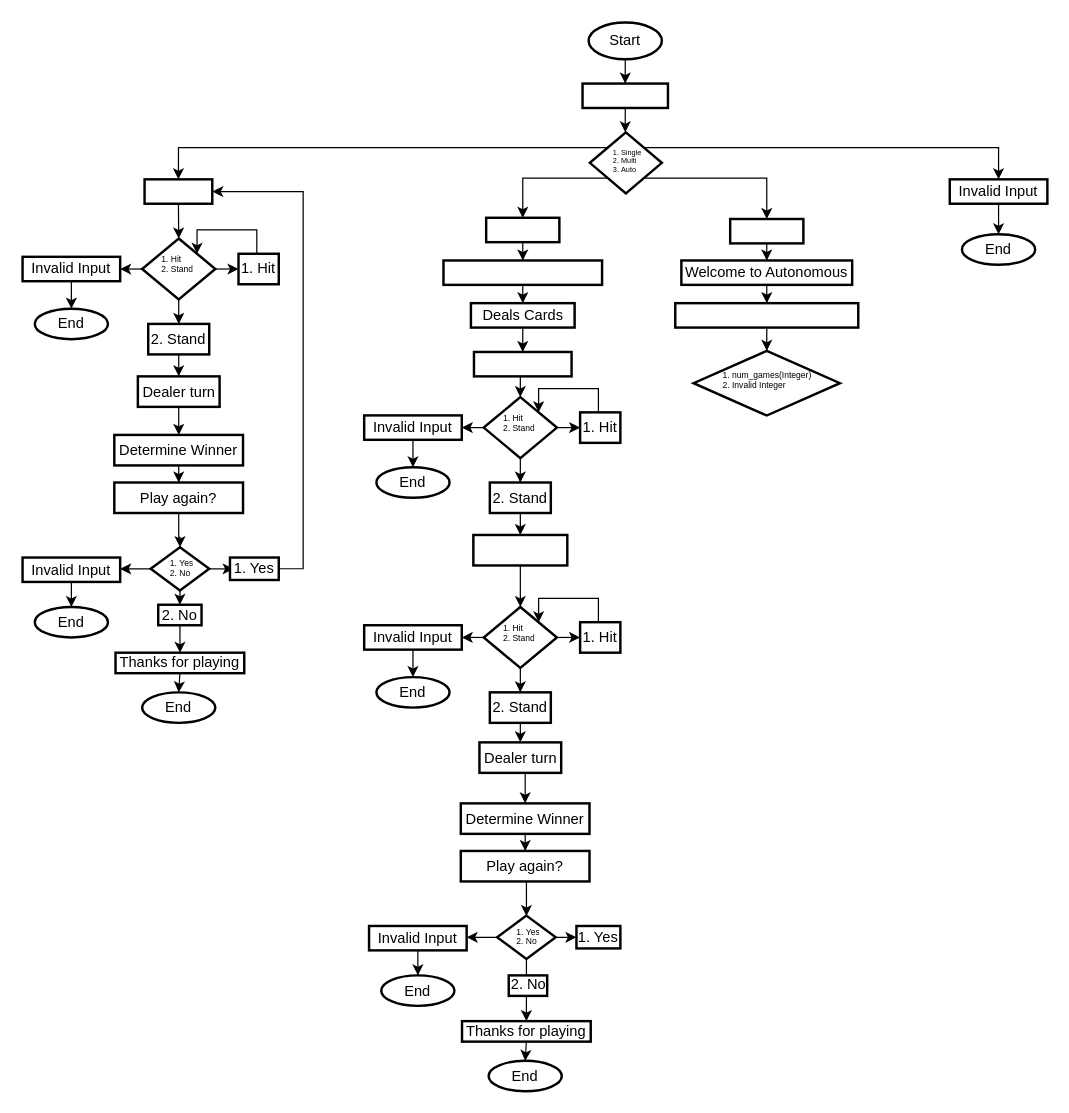
Image size: 1069x1113. Some labels were removed from this diagram. The shapes that lost their labels are listed below. From the top down, each one's box as (x1, y1, x2, y2) in pixels, then its label:
(581, 82, 669, 109): Select mode
(143, 178, 213, 204): 1. Single
(484, 216, 560, 243): 2. Multi
(728, 217, 804, 244): 3. Auto
(442, 259, 603, 285): Welcome to Multiplayer
(673, 301, 859, 328): How many games to play?
(472, 350, 572, 377): Player 1 turn
(472, 533, 568, 566): Player 2 turn
